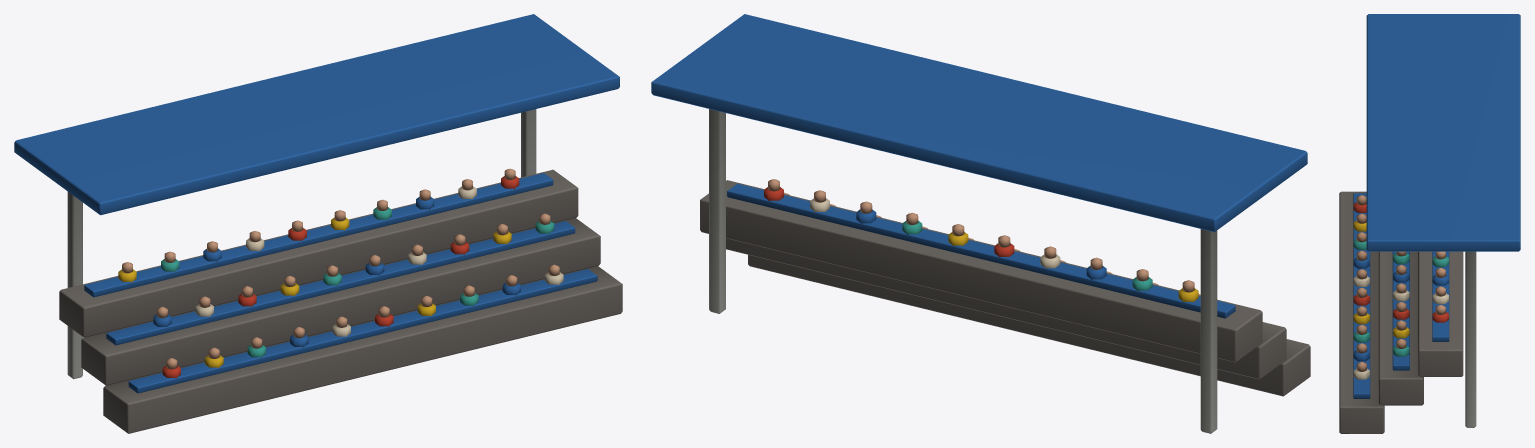
Rendered from grandstand.glb.
3 renders of one model, left to right at view 1: azimuth 30°, elevation 25°; view 2: azimuth 150°, elevation 25°; view 3: azimuth 270°, elevation 25°, orthographic. The views are drawn at different scales.
Visible parts, largest first — view 1: Terrace, Painted crowd; view 2: Terrace, Painted crowd; view 3: Terrace, Painted crowd.
Boxes of the visible parts, x1,y1,x2,y2 form: Terrace: [14, 14, 622, 433]; Painted crowd: [118, 168, 563, 378]; Terrace: [651, 14, 1310, 433]; Painted crowd: [764, 179, 1200, 302]; Terrace: [1339, 14, 1520, 433]; Painted crowd: [1353, 195, 1448, 379].
Size of the model in its own units: 7.36 by 3.03 by 2.48.
